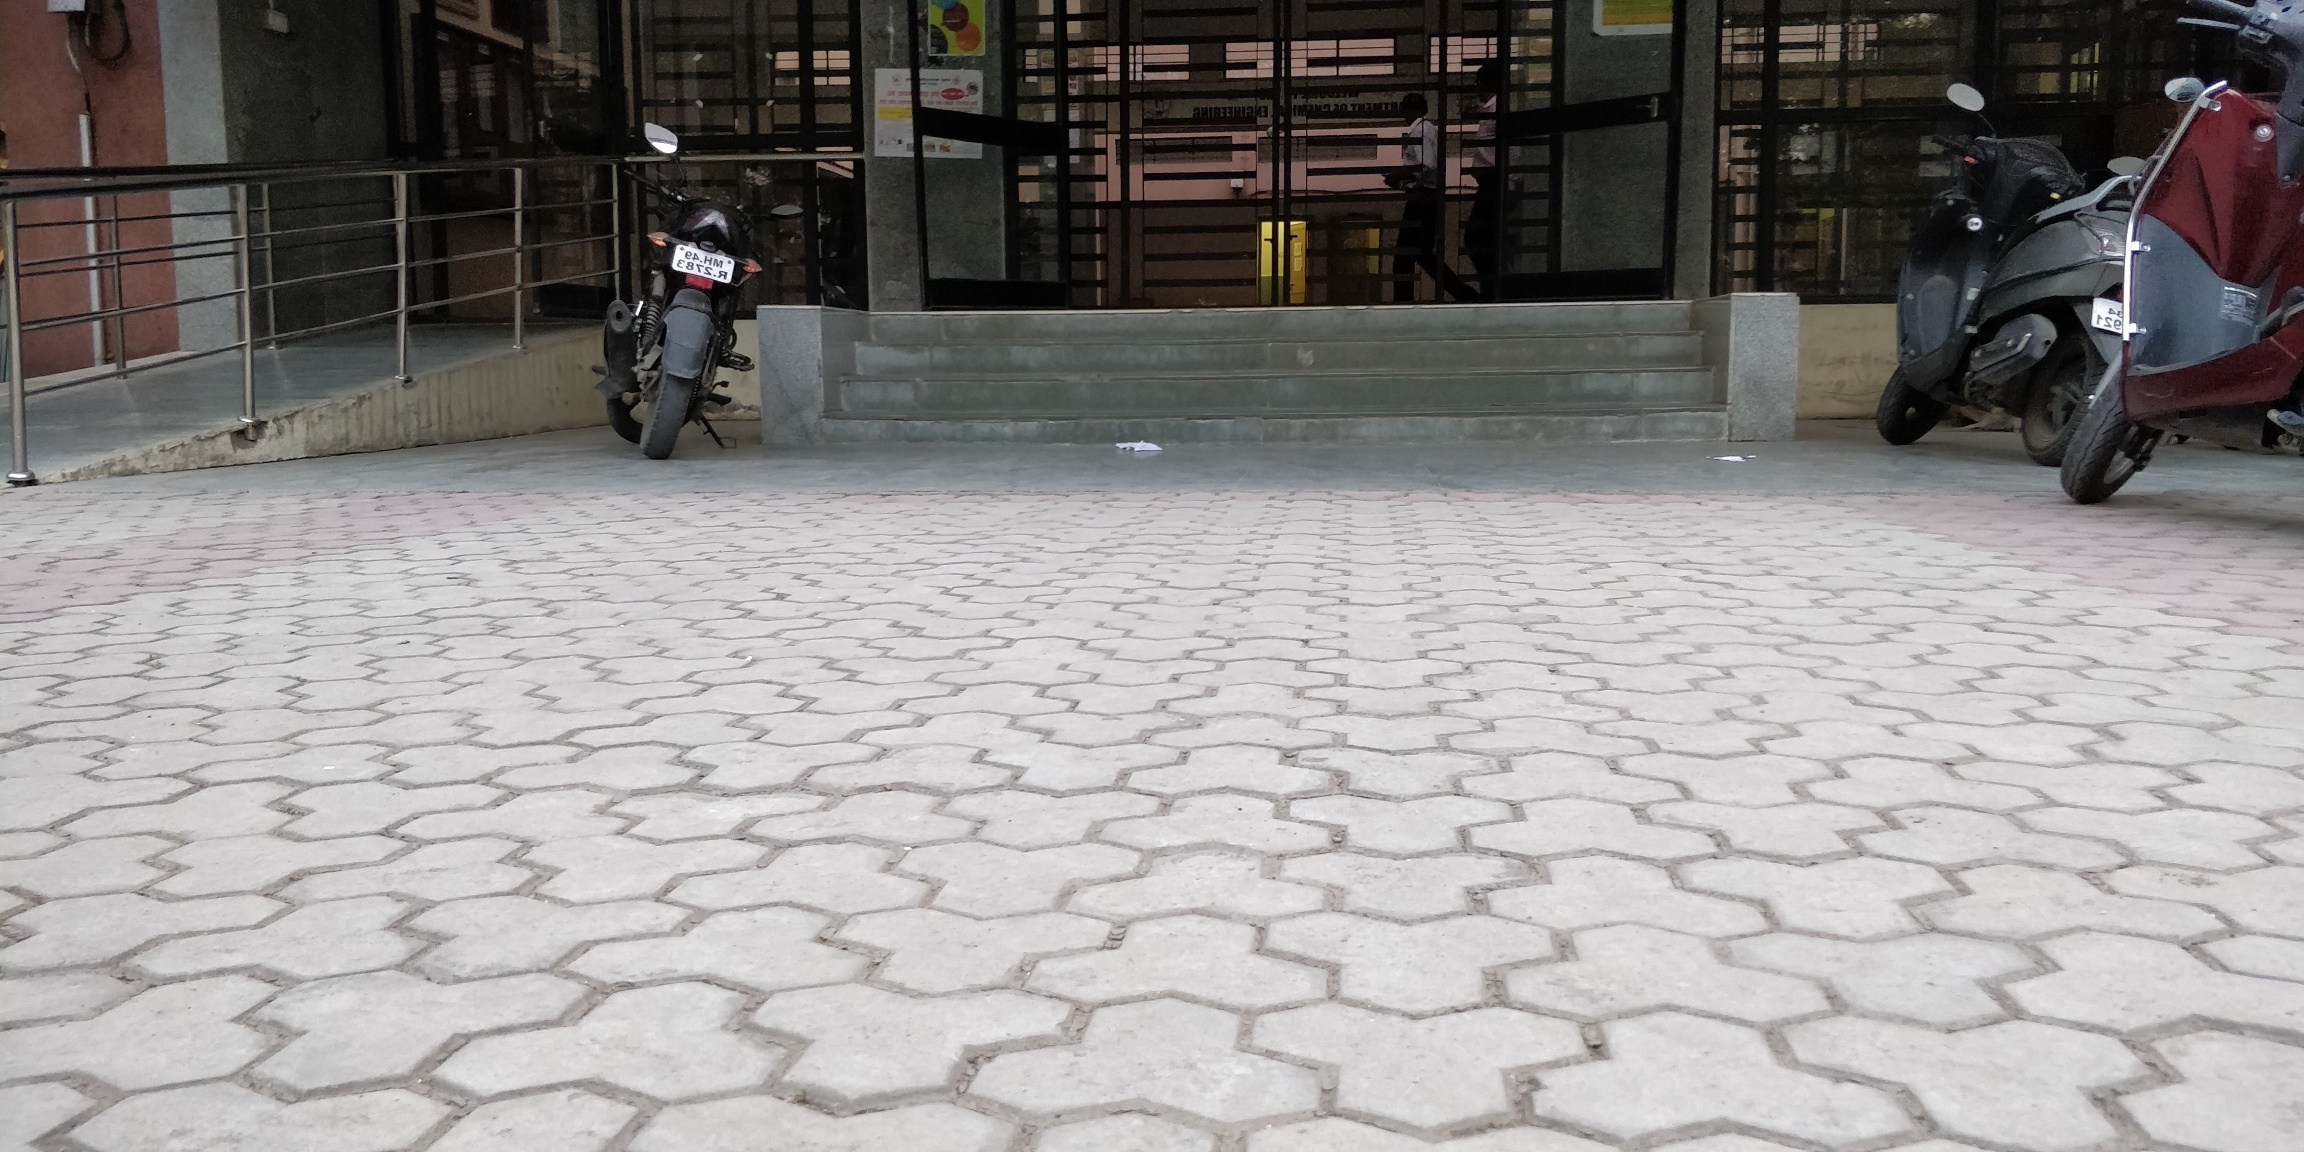stairs_up: (833, 289, 1718, 472)
